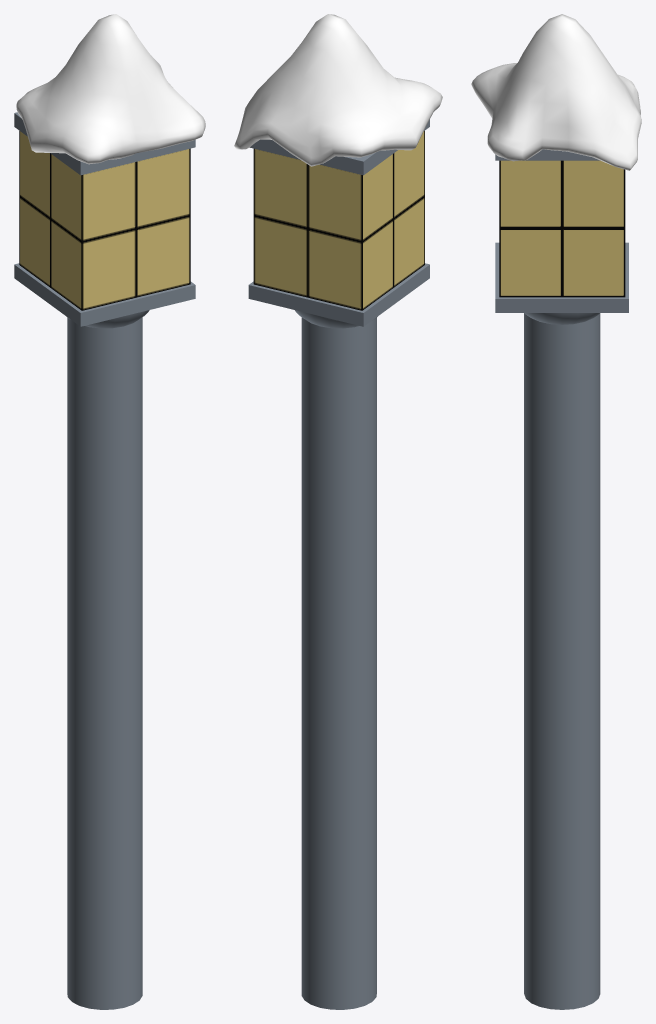
File: lampCP.obj
3 views of the same model, side by side, from view 1: azimuth 30°, elevation 25°; view 2: azimuth 150°, elevation 25°; view 3: azimuth 270°, elevation 25° (orthographic).
Visible parts, largest first — view 1: pCylinder1, pCube4, pCube5, pCube2, pCube3, pSphere1; view 2: pCylinder1, pCube4, pCube5, pCube2, pCube3, pSphere1; view 3: pCylinder1, pCube4, pCube5, pCube2, pSphere1, pCube3.
Part boxes in pixels (x1,y1,x2,y2): pCylinder1: (67,317,142,1009); pCube4: (19,131,190,310); pCube5: (16,14,205,164); pCube2: (14,263,195,326); pCube3: (14,112,195,175); pSphere1: (67,310,149,328); pCylinder1: (301,317,376,1009); pCube4: (253,131,424,310); pCube5: (234,14,442,166); pCube2: (248,263,429,326); pCube3: (249,119,429,175); pSphere1: (295,310,377,328); pCylinder1: (524,313,600,1009); pCube4: (499,160,625,297); pCube5: (471,14,641,170); pCube2: (495,242,628,312); pSphere1: (524,313,599,324); pCube3: (495,149,599,160).
Size of the model in its own units: 0.4704 by 2.84 by 0.4464.
3 materials, 3 textured.
